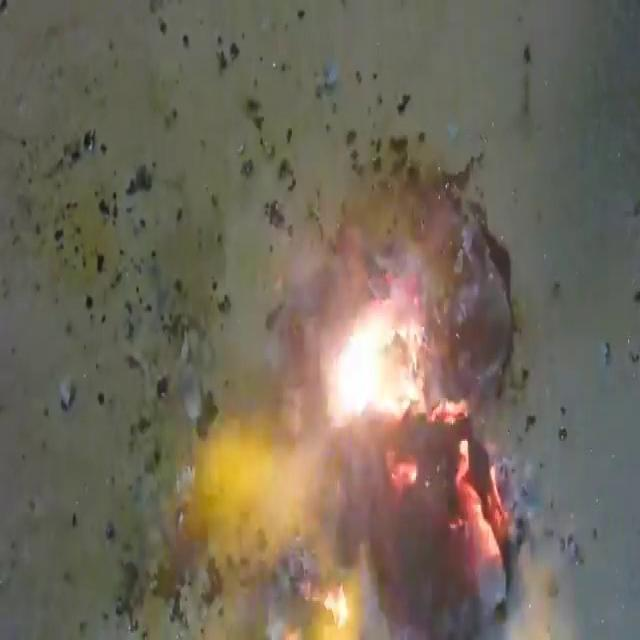Fire: (157, 112, 594, 638)
